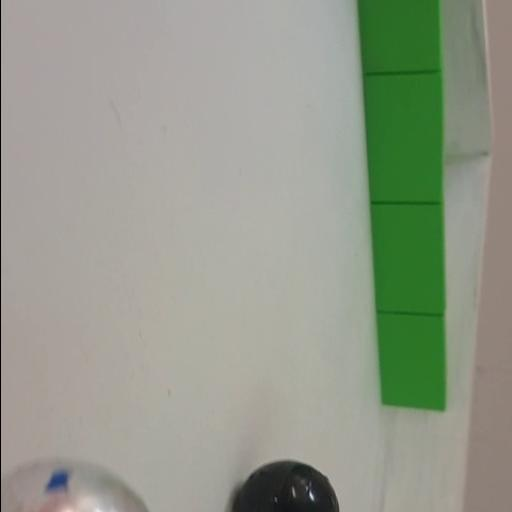alive: (0, 452, 165, 510)
dead: (230, 460, 346, 512)
